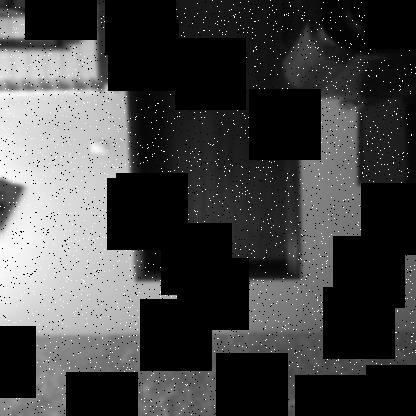Porte: (123, 1, 302, 282)
